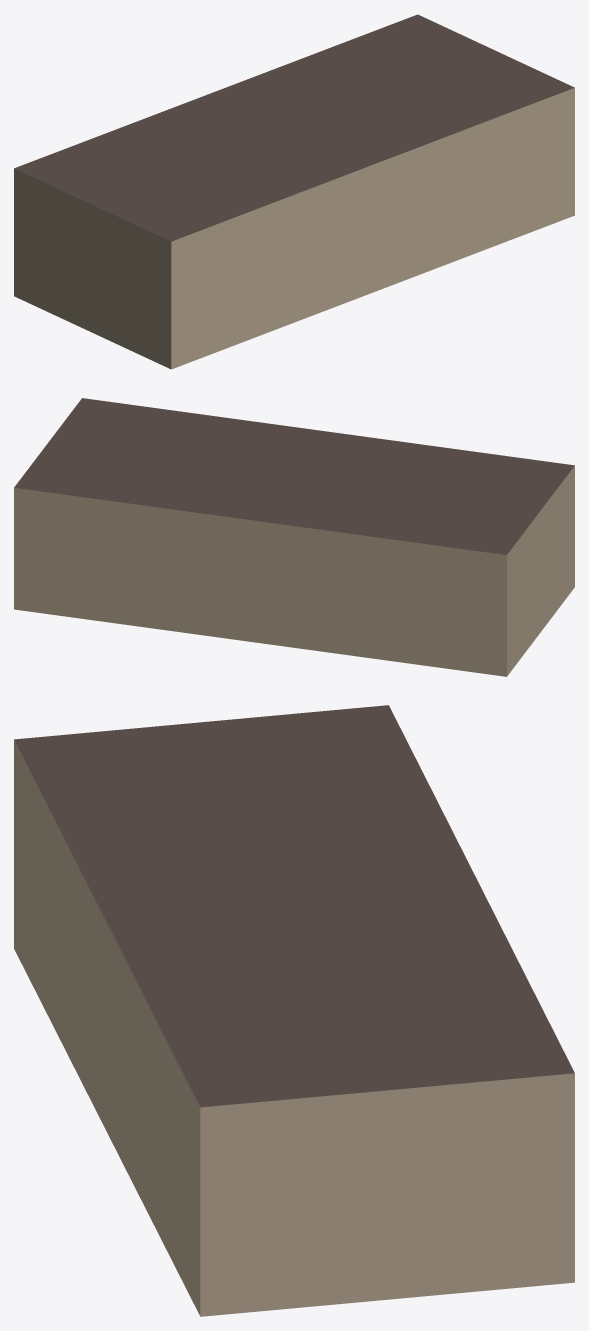
The picture shows the model from 3 angles, top to bottom: view 1: azimuth 30°, elevation 25°; view 2: azimuth 150°, elevation 25°; view 3: azimuth 270°, elevation 25°; orthographic projection. The views are drawn at different scales.
Parts seen in each view (by area): view 1: HP-w859078970; view 2: HP-w859078970; view 3: HP-w859078970.
Part boxes in pixels (x1,y1,x2,y2): HP-w859078970: (14, 14, 574, 369); HP-w859078970: (14, 398, 574, 676); HP-w859078970: (14, 705, 574, 1316).
Bounding box in the file's own units: 37.08 × 9 × 21.85.
